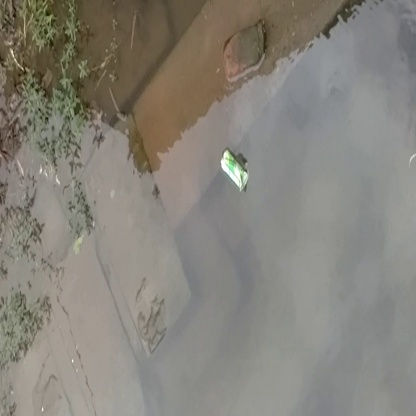milk-box: (215, 143, 253, 194)
